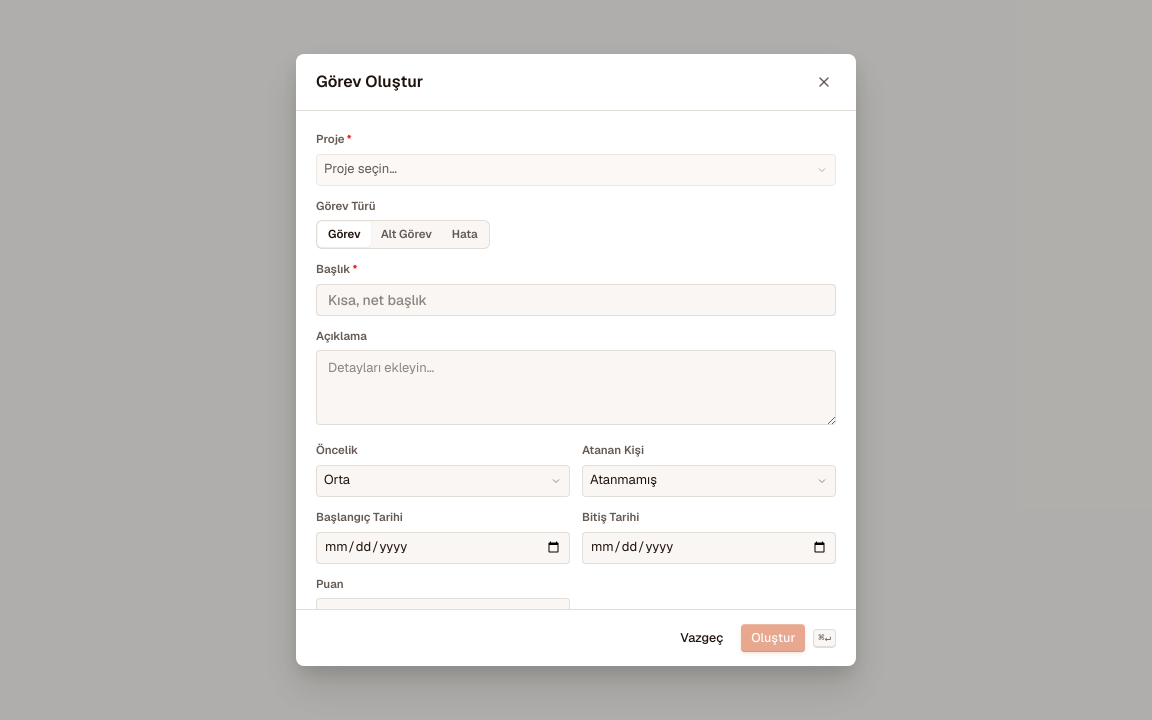
Test case: TaskCreateModal › reveals Parent Task select when task type switches to subtask
expect the text "Görev Oluştur" is shown: met, box left=316, top=71, right=423, bottom=92
Step 1. Click the button "Alt Görev" → (406, 235), box left=371, top=222, right=442, bottom=247
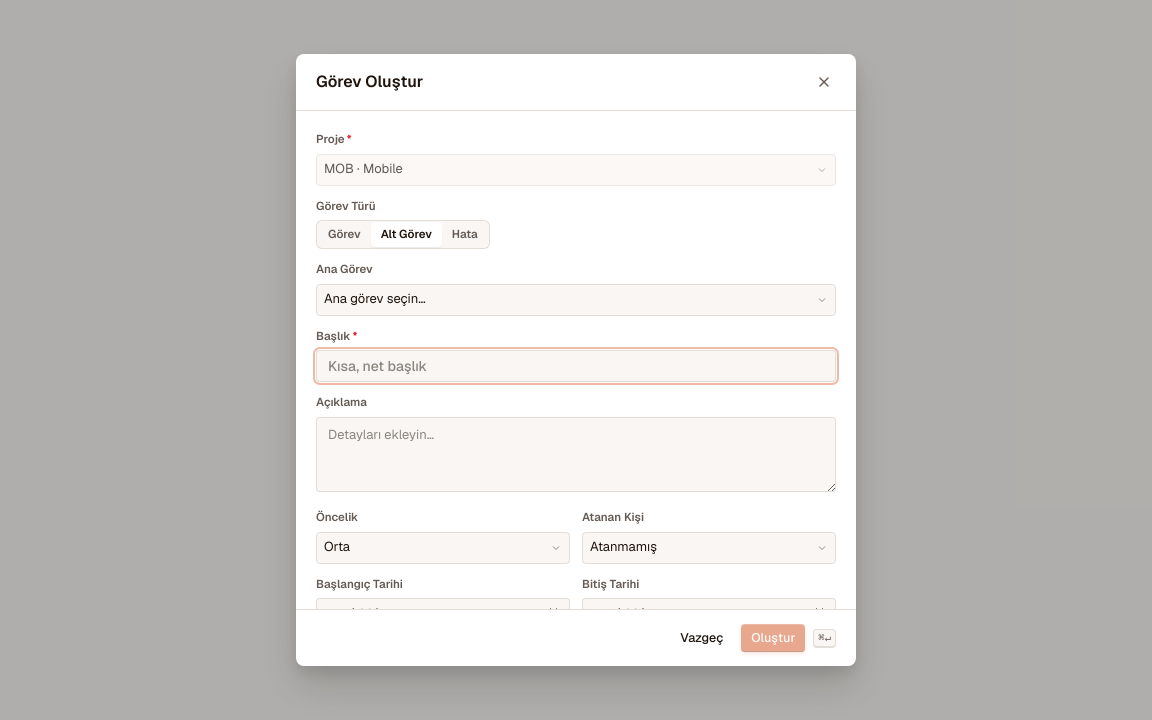
expect the text "Ana Görev" is shown: met, box left=316, top=261, right=373, bottom=276
